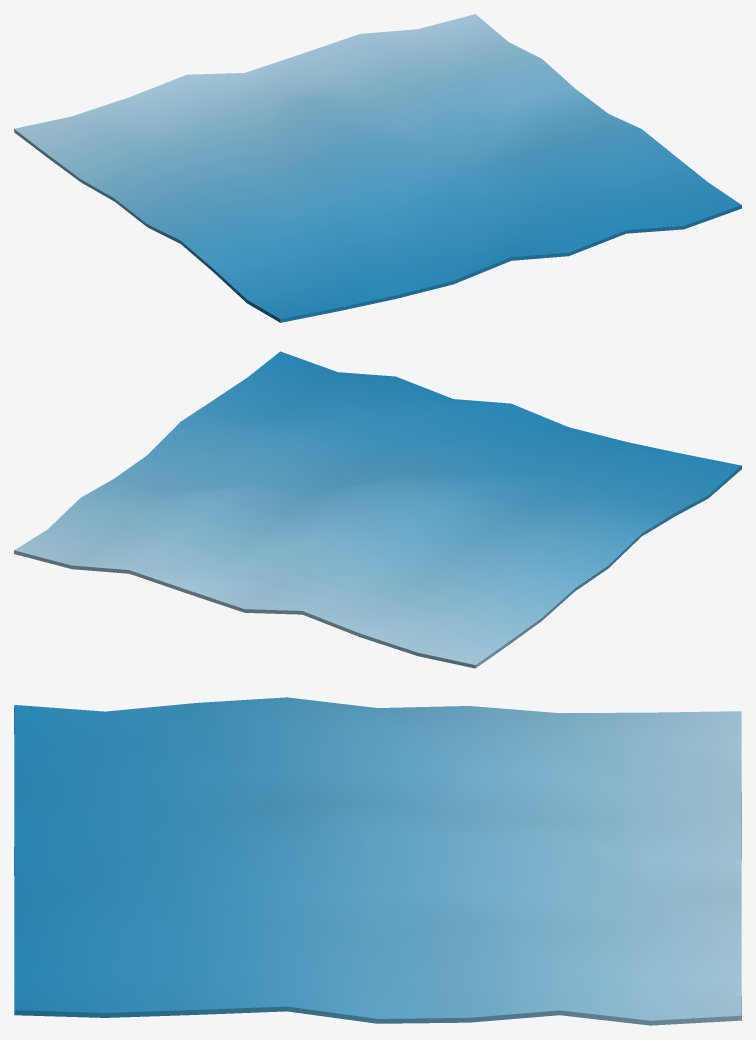
Rendered from Ocean.fbx.
The picture shows the model from 3 angles, top to bottom: view 1: azimuth 30°, elevation 25°; view 2: azimuth 150°, elevation 25°; view 3: azimuth 270°, elevation 25°; orthographic projection. The views are drawn at different scales.
Parts seen in each view (by area): view 1: Ocean; view 2: Ocean; view 3: Ocean.
Boxes of the visible parts, x1=… form: Ocean: x1=14, y1=14, x2=741, y2=322; Ocean: x1=14, y1=351, x2=741, y2=668; Ocean: x1=14, y1=697, x2=741, y2=1025.
Bounding box in the file's own units: 20 × 1.26 × 20.
1 material, 1 textured.
